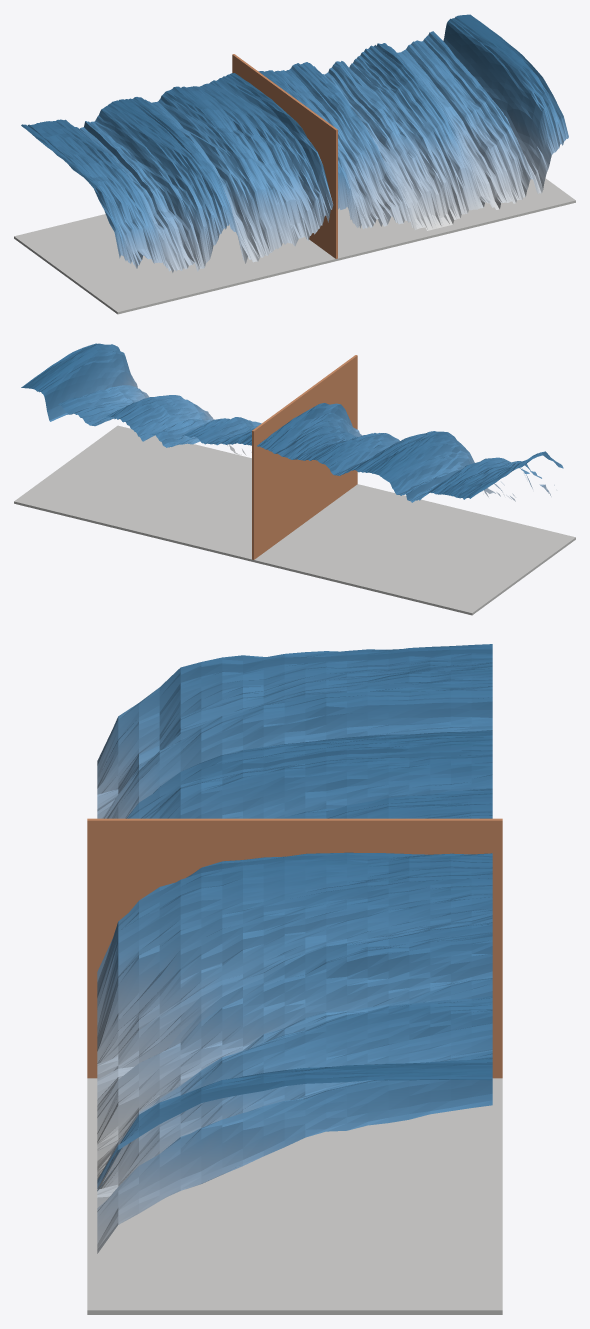
The model's file is BT17_landscape.glb.
The picture shows the model from 3 angles, top to bottom: view 1: azimuth 30°, elevation 25°; view 2: azimuth 150°, elevation 25°; view 3: azimuth 270°, elevation 25°; orthographic projection. The views are drawn at different scales.
Parts seen in each view (by area): view 1: geometry_0, geometry_2, geometry_1; view 2: geometry_2, geometry_0, geometry_1; view 3: geometry_0, geometry_2, geometry_1.
Boxes of the visible parts, box(x1,y1,x2,y2) form: geometry_0: box(21, 14, 568, 272); geometry_2: box(14, 178, 575, 314); geometry_1: box(232, 54, 337, 258); geometry_2: box(14, 425, 575, 615); geometry_0: box(21, 343, 563, 502); geometry_1: box(252, 355, 357, 559); geometry_0: box(97, 644, 492, 1253); geometry_2: box(87, 1078, 502, 1314); geometry_1: box(87, 818, 502, 1078).
Bounding box in the file's own units: 0.4284 × 0.117 × 0.168.
